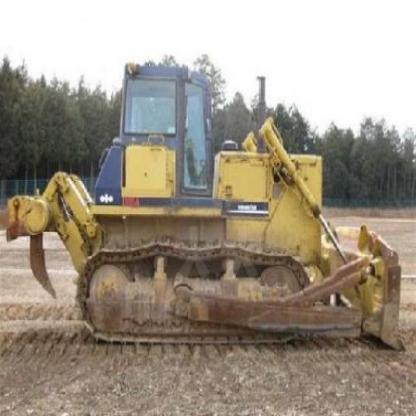bull_dozer/loader/grader: (9, 54, 406, 354)
